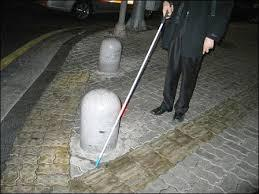Animal: (69, 89, 124, 147), (108, 46, 125, 73)
